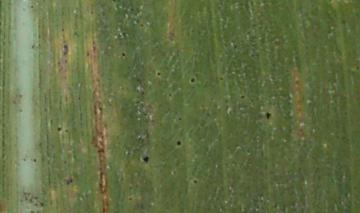tarspot: (61, 43, 71, 57), (62, 176, 77, 185), (263, 110, 273, 121), (92, 38, 98, 52), (119, 51, 129, 59), (83, 49, 92, 57), (142, 154, 149, 164), (154, 70, 163, 77), (189, 76, 196, 84), (29, 194, 34, 204), (175, 139, 182, 146), (33, 194, 40, 201), (17, 93, 23, 101), (33, 209, 44, 213), (56, 125, 62, 132), (27, 207, 34, 213), (30, 42, 36, 49), (21, 157, 28, 163), (238, 94, 246, 99), (18, 108, 24, 114), (38, 201, 45, 206), (64, 58, 69, 65), (64, 128, 70, 133), (32, 158, 38, 163), (28, 5, 34, 10), (18, 197, 24, 202), (192, 178, 197, 183), (177, 116, 182, 120), (23, 191, 27, 195), (25, 196, 28, 201)
